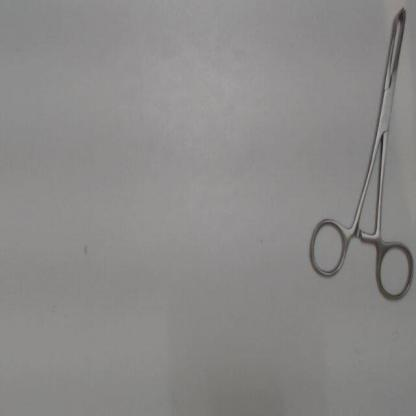Allis Tissue Forceps: (302, 4, 416, 311)
